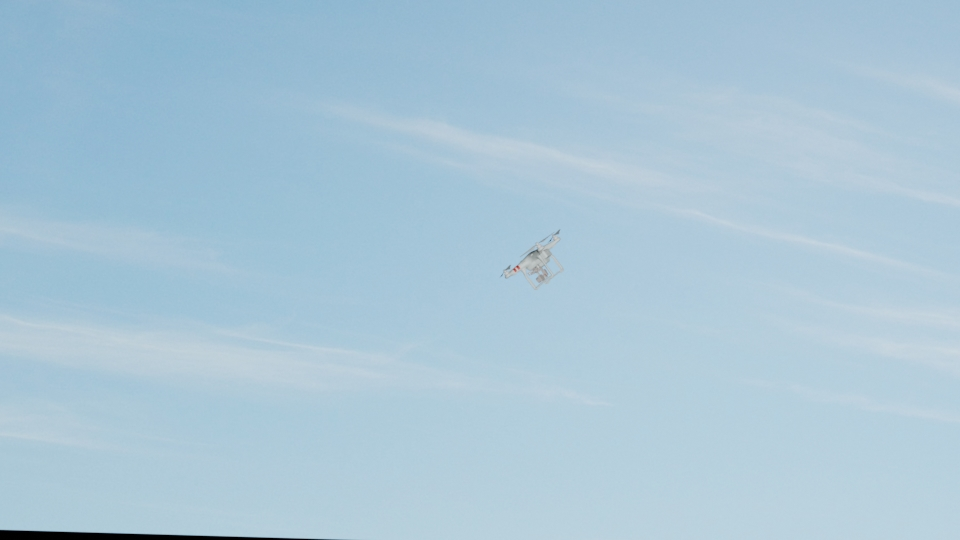drone: (499, 229, 563, 289)
